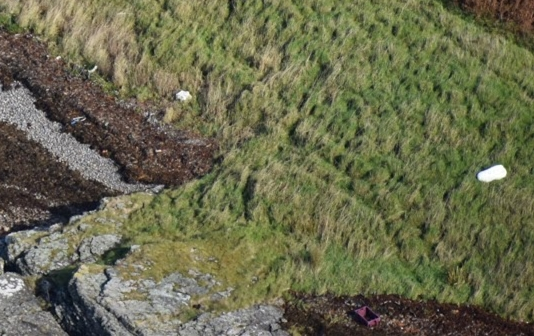white_in_green: (450, 130, 533, 213), (148, 65, 223, 127), (334, 291, 399, 336)
